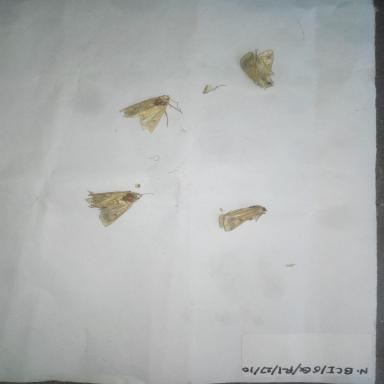abw: (80, 187, 160, 230), (114, 90, 188, 134), (211, 195, 278, 242), (233, 44, 290, 93)
